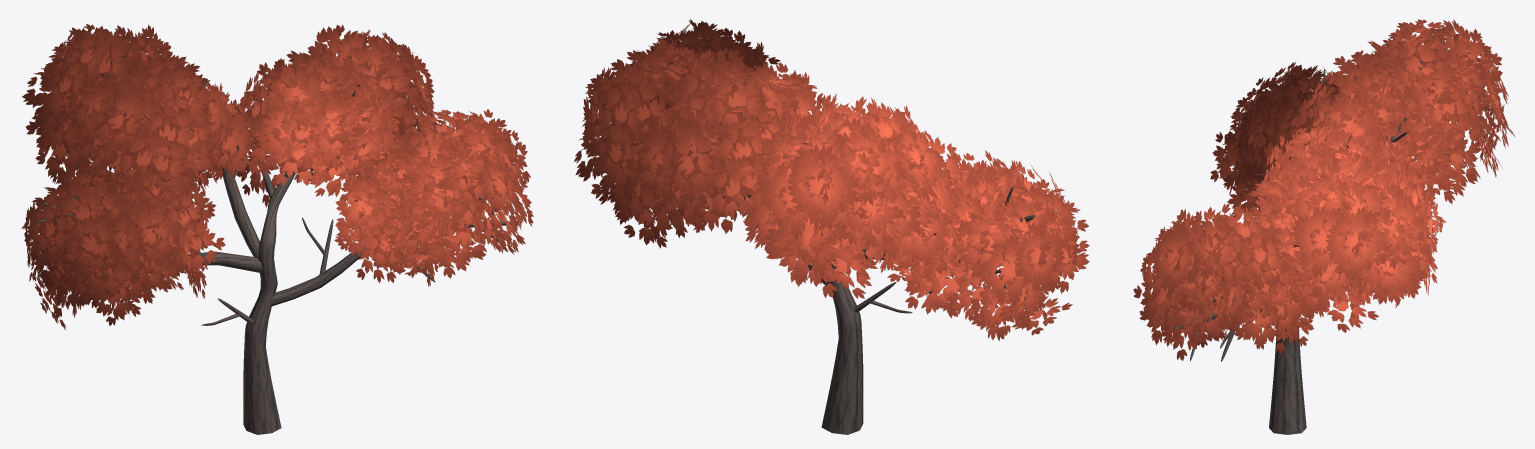
Rendered from MapleTree_3.glb.
3 renders of one model, left to right at view 1: azimuth 30°, elevation 25°; view 2: azimuth 150°, elevation 25°; view 3: azimuth 270°, elevation 25°, orthographic. The views are drawn at different scales.
Parts seen in each view (by area): view 1: MapleTree_3; view 2: MapleTree_3; view 3: MapleTree_3.
Part boxes in pixels (x1,y1,x2,y2): MapleTree_3: (21,24,533,434); MapleTree_3: (574,19,1089,434); MapleTree_3: (1133,19,1514,434).
Bounding box in the file's own units: 8.98 × 6.99 × 6.61.
Materials: 2 (2 with a texture image).
